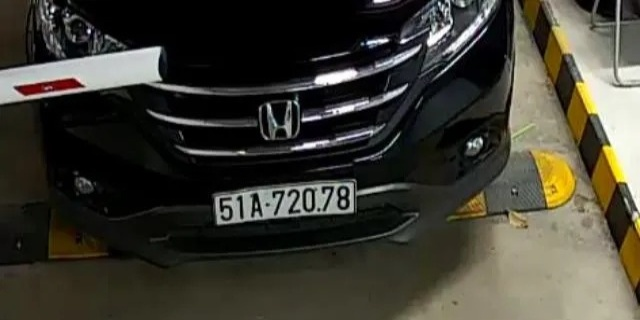bien_so: (215, 187, 357, 217)
